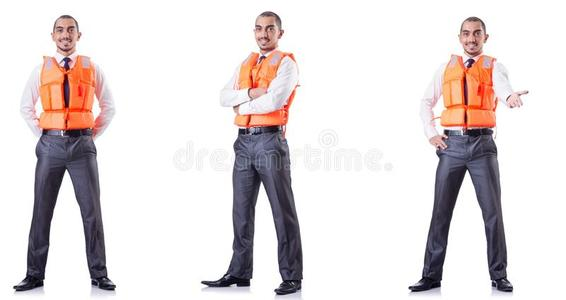reflective_clothes: (224, 38, 304, 136), (30, 41, 96, 144), (437, 47, 504, 138)
